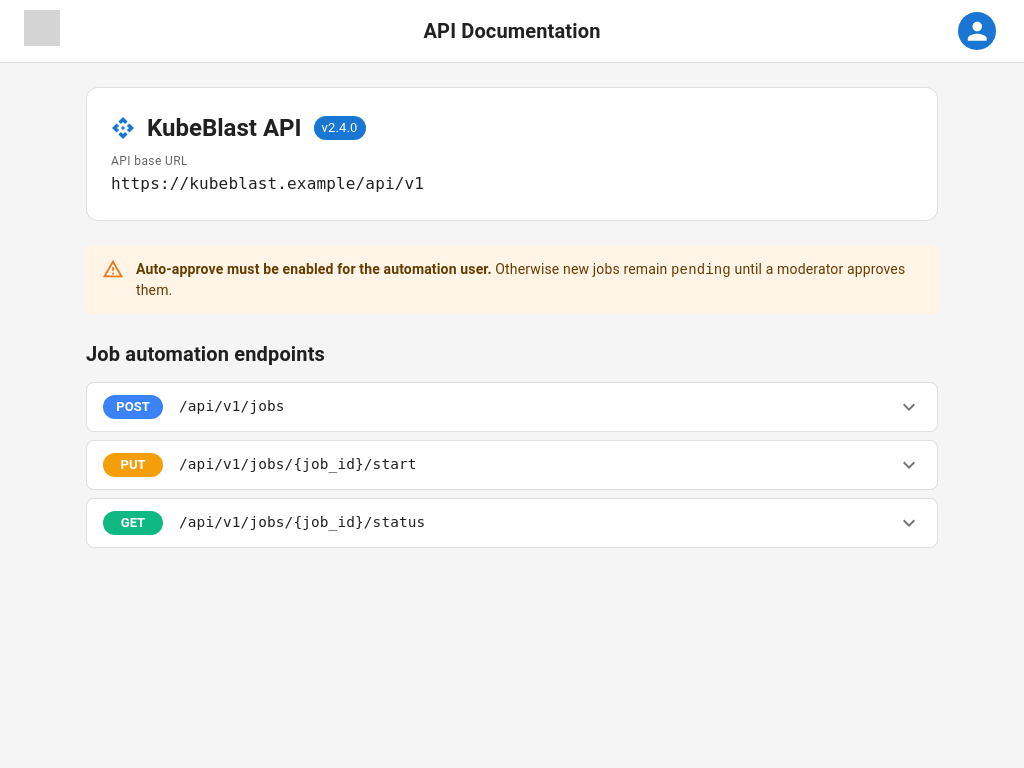
Scenario: ApiDocs › shows one-shot curl examples for starting and evaluating a job
The width and height of the screenshot is (1024, 768).
Step 1. Click the button "PUT /api/v1/jobs/{job_id}/start" → (133, 465), box [87,441,937,489]
(page scrolled)
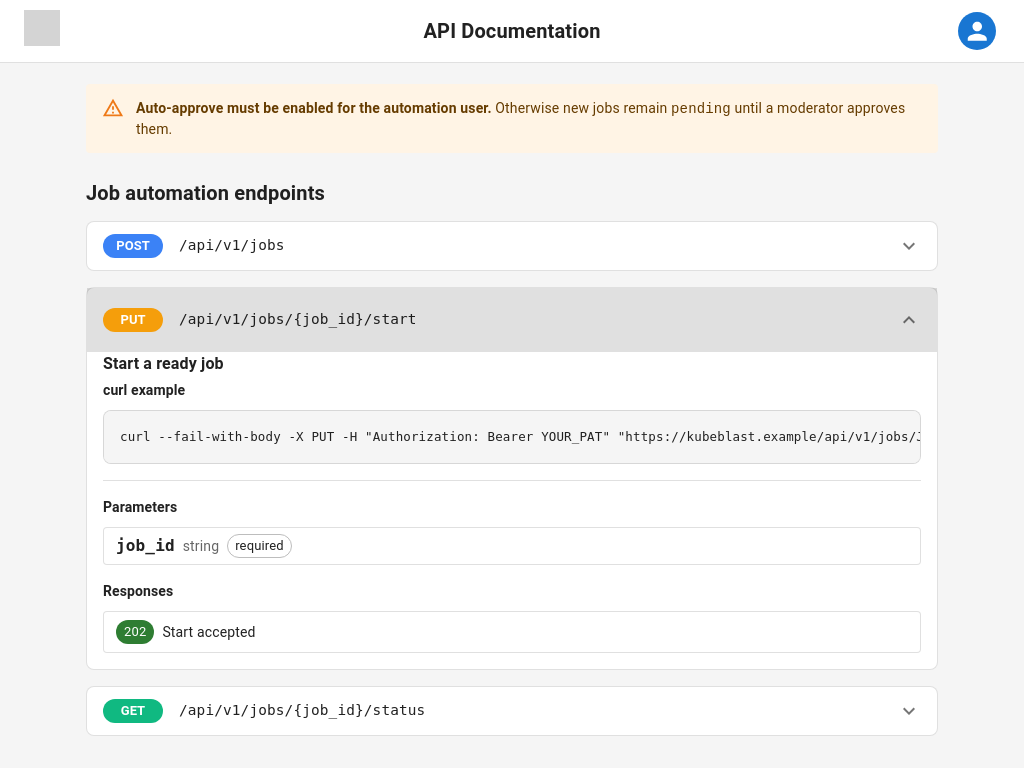
Now the text "curl --fail-with-body" shows "-X PUT", box [120,429,937,444]
Now the text "curl --fail-with-body" shows "https://kubeblast.example/api/v1/jobs/JOB_ID/start", box [120,429,937,444]
Step 2. Click the button "GET /api/v1/jobs/{job_id}/status" → (133, 711), box [87,687,937,735]
(page scrolled)
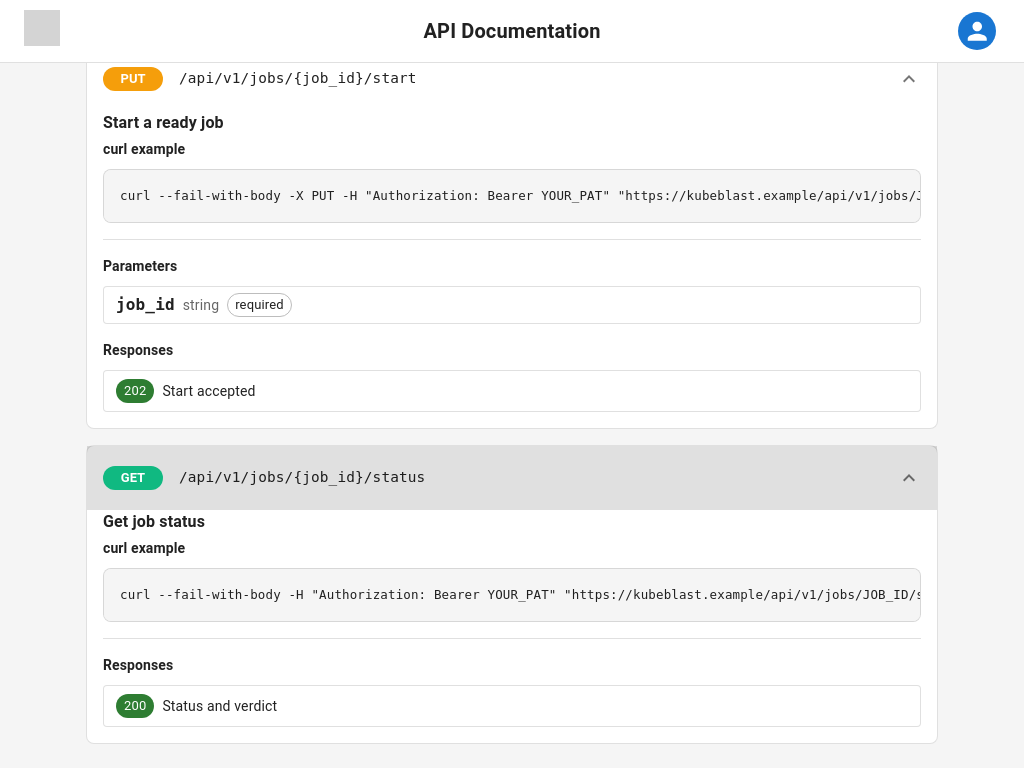
Now the text "curl --fail-with-body" shows "Authorization: Bearer YOUR_PAT", box [120,587,970,602]
Now the text "curl --fail-with-body" shows "https://kubeblast.example/api/v1/jobs/JOB_ID/status", box [120,587,970,602]
